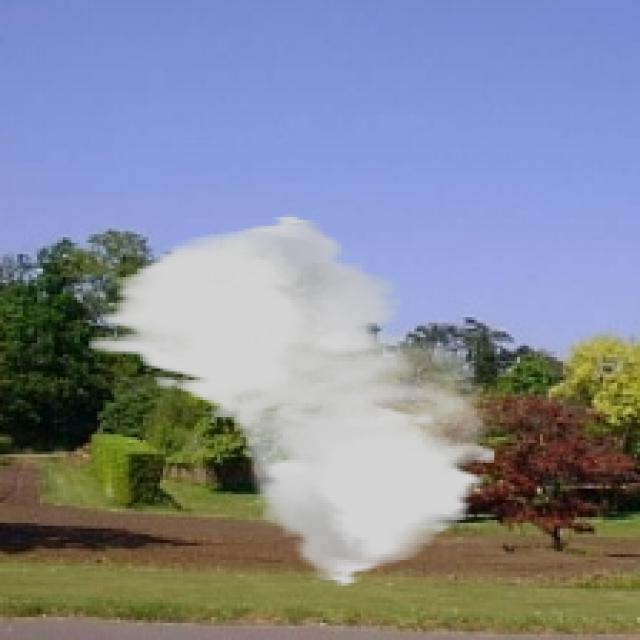smoke: (89, 214, 497, 589)
